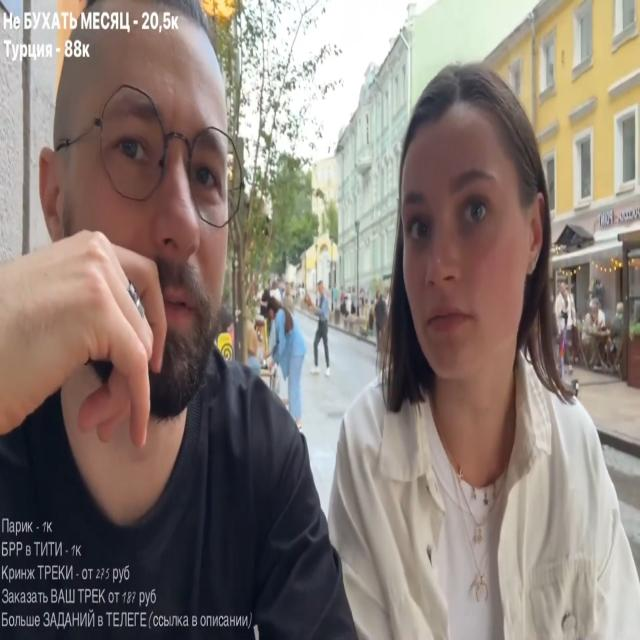Person: (0, 14, 364, 640), (282, 36, 640, 640), (261, 292, 309, 427), (582, 295, 612, 372), (555, 279, 580, 367), (309, 280, 332, 371)
